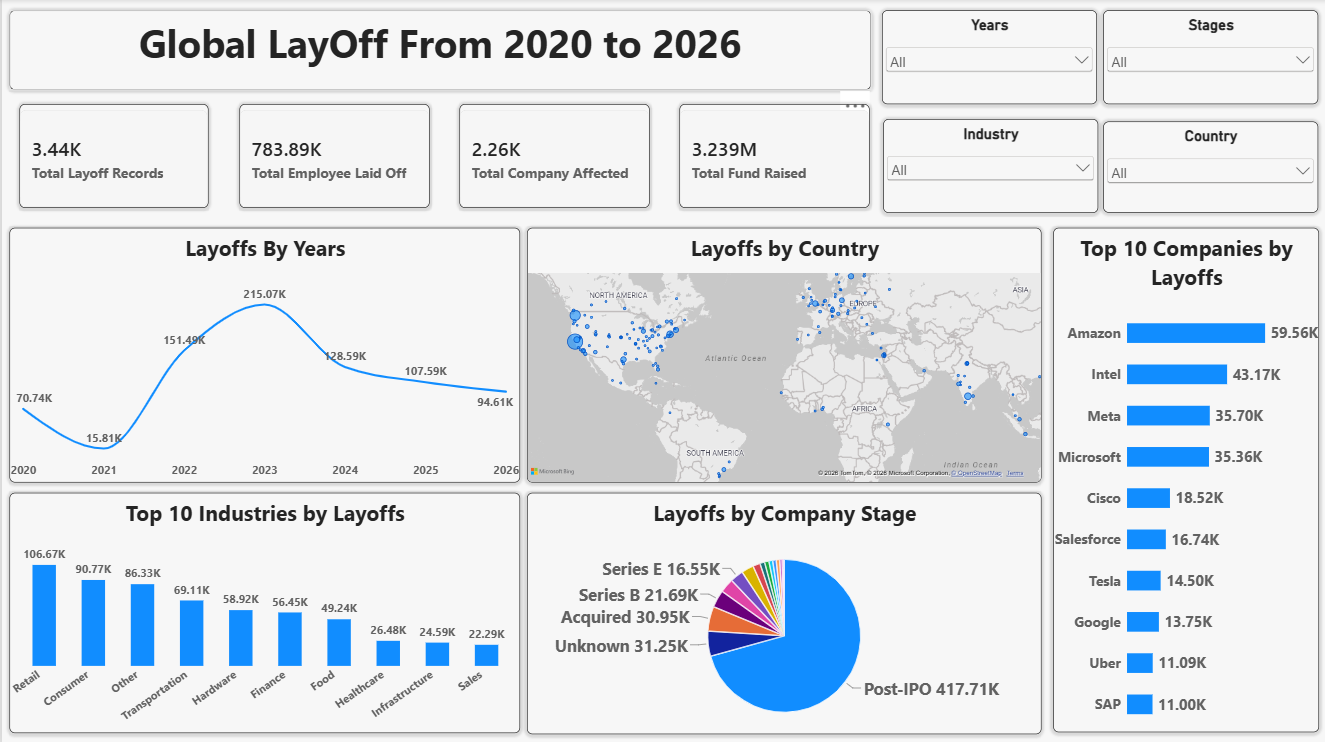

The dashboard page shown, as its layout file describes it:
{"tool":"powerbi","page":{"name":"Overview","canvas":[1920,1080],"ordinal":0},"visuals":[{"type":"textbox","box":[10.3,16.5,1247.3,115.3],"z":0},{"type":"cardVisual","fields":{"Data":["KPI.Total Layoff Records"]},"box":[24.7,152.3,273.8,150.3],"z":1000},{"type":"cardVisual","fields":{"Data":["KPI.Average LayOff Percentage"]},"box":[980.8,152,275.1,150.2],"z":2000},{"type":"cardVisual","fields":{"Data":["KPI.Total Employee Laid Off"]},"box":[343.4,152,275.1,150.2],"z":3000},{"type":"cardVisual","fields":{"Data":["KPI.Total Company Affected"]},"box":[662.1,152,275.1,150.2],"z":4000},{"type":"lineChart","title":"Layoffs By Years","fields":{"Category":["layoff_db layoffs_staging.date.Variation.Date Hierarchy.Year"],"Y":["Sum(layoff_db layoffs_staging.total_laid_off)"]},"box":[10.3,331.4,738.9,368.4],"z":5000},{"type":"clusteredColumnChart","title":"Top 10 Industries by Layoffs","fields":{"Category":["layoff_db layoffs_staging.industry"],"Y":["Sum(layoff_db layoffs_staging.total_laid_off)"]},"box":[10.3,714.2,738.9,347.9],"z":6000},{"type":"map","title":"Layoffs by Country","fields":{"Category":["layoff_db layoffs_staging.location"],"Size":["Sum(layoff_db layoffs_staging.total_laid_off)"]},"box":[759.5,331.4,745.1,368.4],"z":7000},{"type":"pieChart","title":"Layoffs by Company Stage","fields":{"Category":["layoff_db layoffs_staging.stage"],"Y":["Sum(layoff_db layoffs_staging.total_laid_off)"]},"box":[759.5,714.2,745.1,349.9],"z":7001},{"type":"barChart","title":"Top 10 Companies by Layoffs","fields":{"Category":["layoff_db layoffs_staging.company"],"Y":["Sum(layoff_db layoffs_staging.total_laid_off)"]},"box":[1521.1,331.4,384.9,730.7],"z":7002},{"type":"slicer","title":"Years","fields":{"Values":["layoff_db layoffs_staging.date.Variation.Date Hierarchy.Year"]},"box":[1274.1,16.5,310.8,135.8],"z":7003},{"type":"slicer","title":"Country","fields":{"Values":["layoff_db layoffs_staging.country"]},"box":[1595.2,177,310.8,131.7],"z":7004},{"type":"slicer","title":"Stages","fields":{"Values":["layoff_db layoffs_staging.stage"]},"box":[1595.2,16.5,310.8,135.8],"z":7005},{"type":"slicer","title":"Industry","fields":{"Values":["layoff_db layoffs_staging.industry"]},"box":[1276.2,172.9,310.8,135.8],"z":7006}]}

Visuals, with their boxes in screenshot pixels (x1, y1, x2, y2), scaled from the page's 1920x1080 canvas onto the 1325x742 screenshot:
textbox: (left=7, top=11, right=868, bottom=91)
cardVisual - KPI.Total Layoff Records: (left=17, top=105, right=206, bottom=208)
cardVisual - KPI.Average LayOff Percentage: (left=677, top=104, right=867, bottom=208)
cardVisual - KPI.Total Employee Laid Off: (left=237, top=104, right=427, bottom=208)
cardVisual - KPI.Total Company Affected: (left=457, top=104, right=647, bottom=208)
"Layoffs By Years" lineChart: (left=7, top=228, right=517, bottom=481)
"Top 10 Industries by Layoffs" clusteredColumnChart: (left=7, top=491, right=517, bottom=730)
"Layoffs by Country" map: (left=524, top=228, right=1038, bottom=481)
"Layoffs by Company Stage" pieChart: (left=524, top=491, right=1038, bottom=731)
"Top 10 Companies by Layoffs" barChart: (left=1050, top=228, right=1315, bottom=730)
"Years" slicer: (left=879, top=11, right=1094, bottom=105)
"Country" slicer: (left=1101, top=122, right=1315, bottom=212)
"Stages" slicer: (left=1101, top=11, right=1315, bottom=105)
"Industry" slicer: (left=881, top=119, right=1095, bottom=212)
